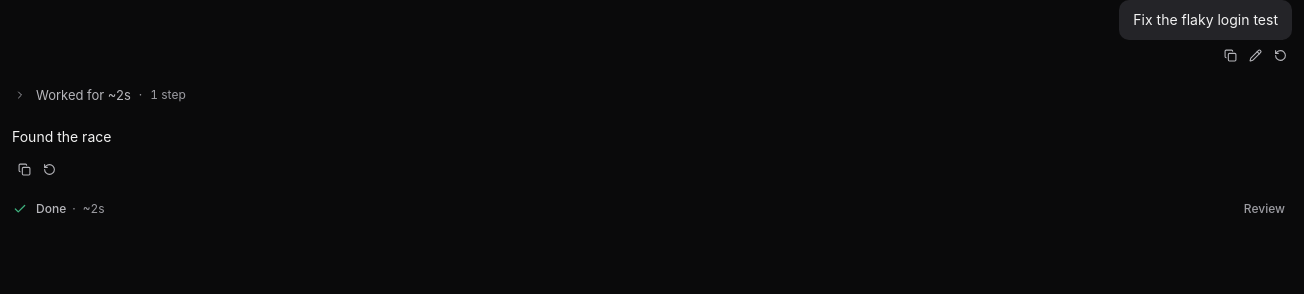
Test: AgentTimeline › keeps a live turn's work open, then folds it above the answer once the turn settles
Check: the text "Reading the guide first" is not shown
Check: the text "Found the race" is shown, box [12,128,111,181]
Click the button "Worked for ~2s 1 step": x=83, y=95 [12,81,1292,109]
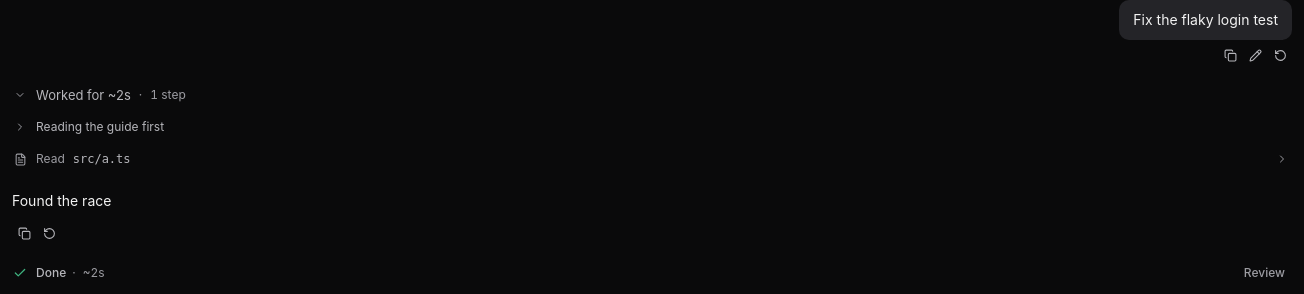
Check: the text "Reading the guide first" is shown, box [36,118,164,136]
